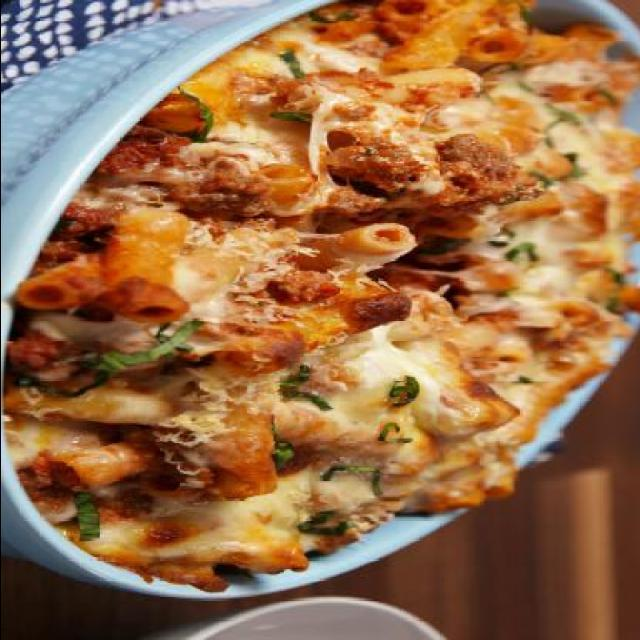Pasta al ragu: (63, 27, 626, 544)
